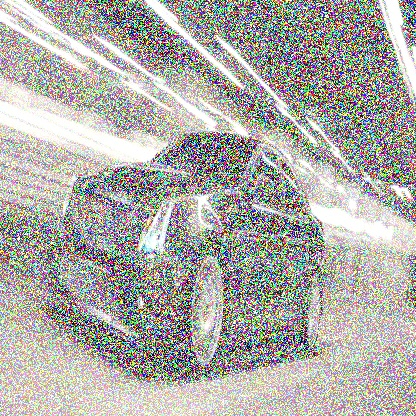Vehicle: (44, 135, 327, 377)
